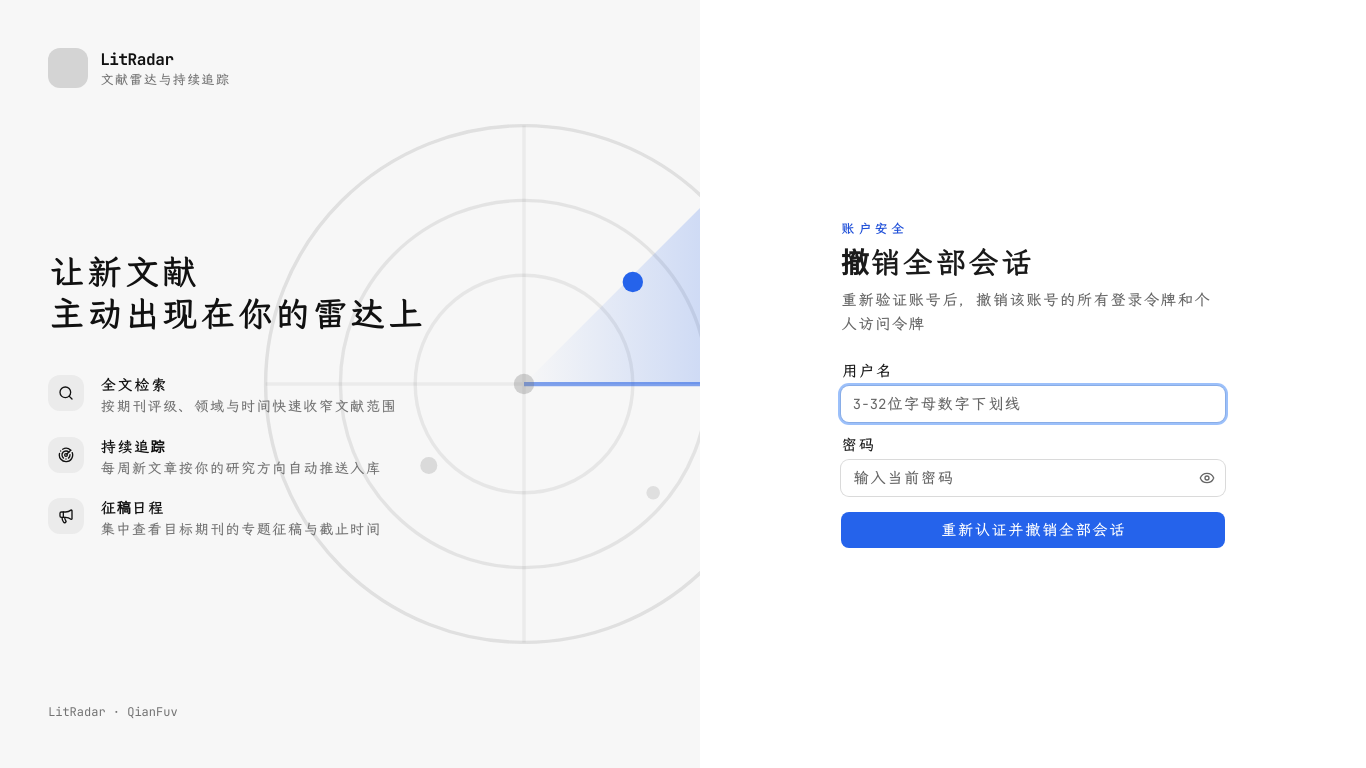
Test: login page › reauthenticates for logout recovery
Type "  recovery_user  " into the field labelled "用户名" at x=1033, y=404, box [841,386,1225,422]
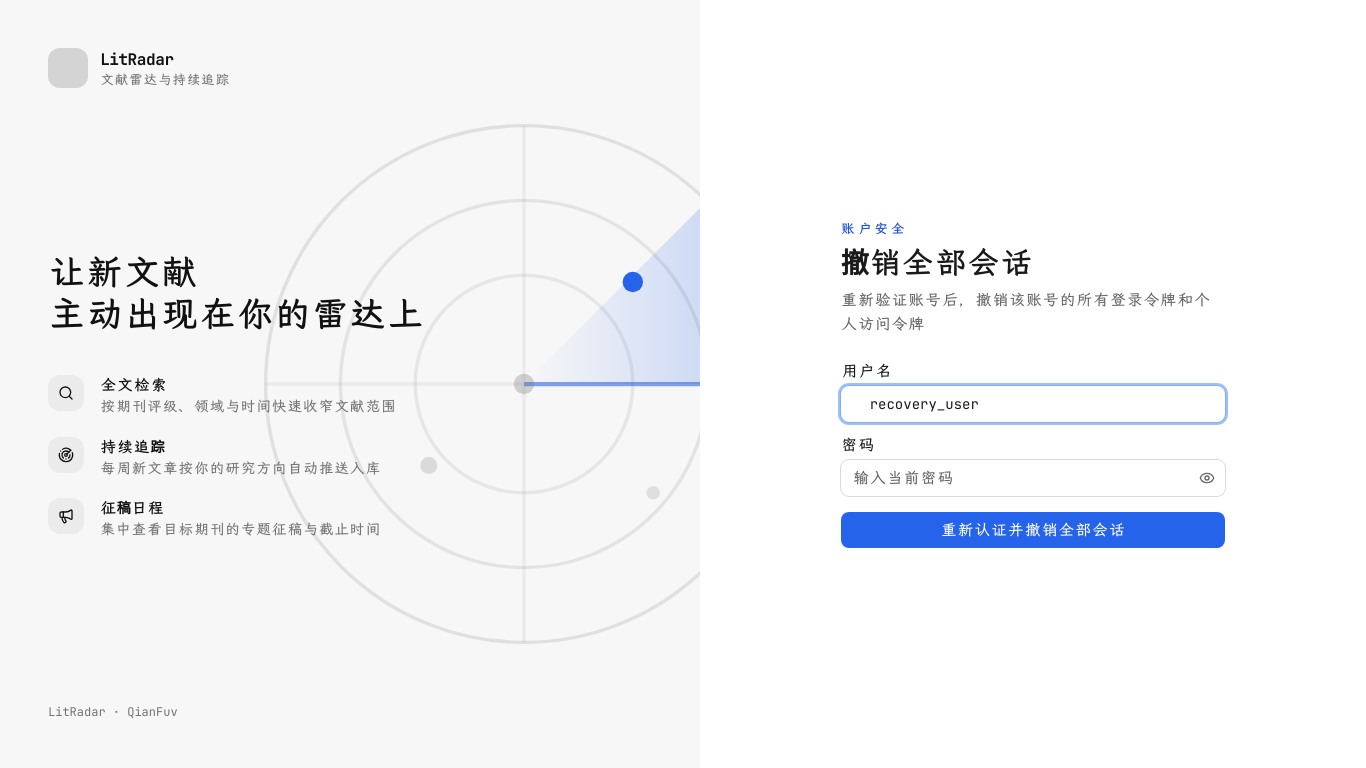
Type "recovery-password" into the password field labelled "密码" at x=1033, y=478, box [841,460,1225,496]
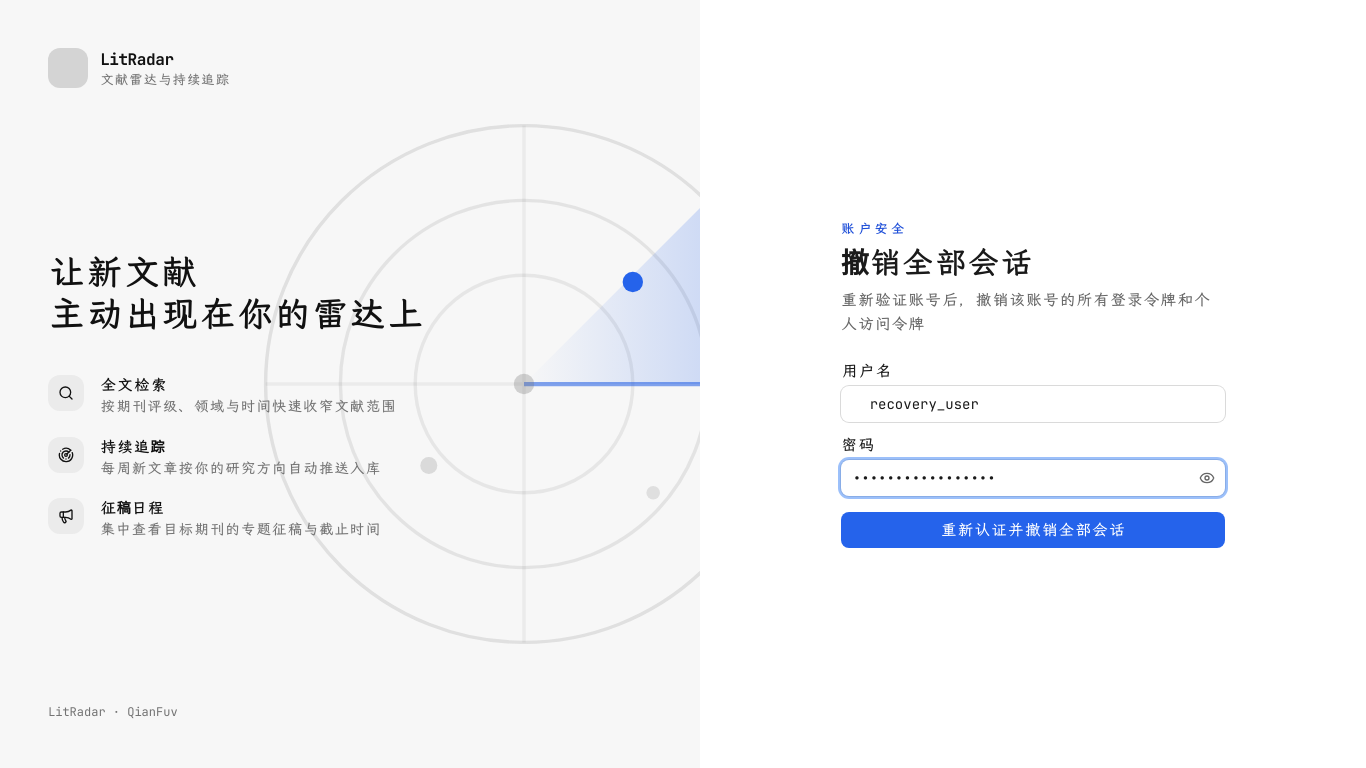
Click the button "重新认证并撤销全部会话" at x=1033, y=530, box [841,512,1225,548]
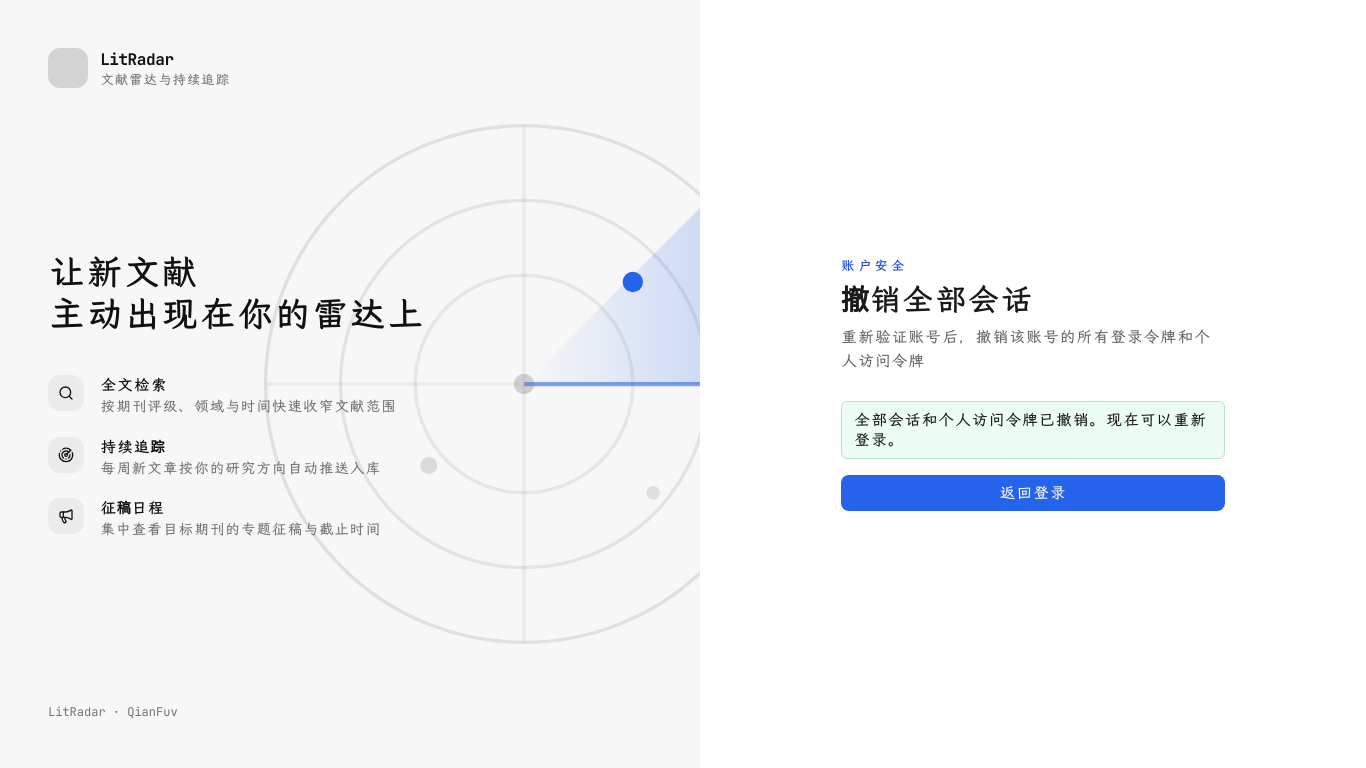
Result: the message reads "全部会话和个人访问令牌已撤销。现在可以重新登录。" at [854,410,1207,448]
Result: the element showing "全部会话和个人访问令牌已撤销。现在可以重新登录。 返回登录" is shown at [841,400,1225,510]
Result: the form "会话撤销表单" is gone
